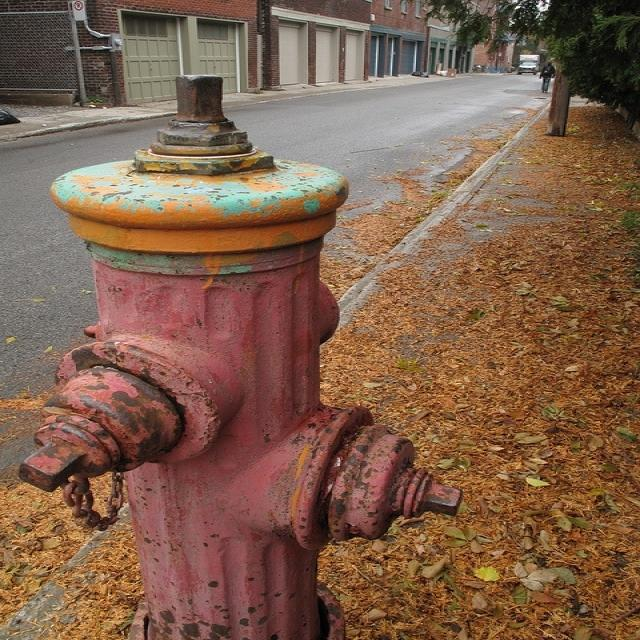fire_hydrant: (11, 61, 448, 640)
